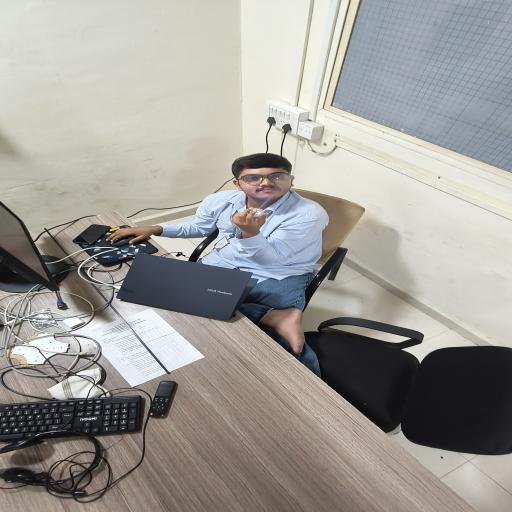survivor: (103, 152, 330, 379)
